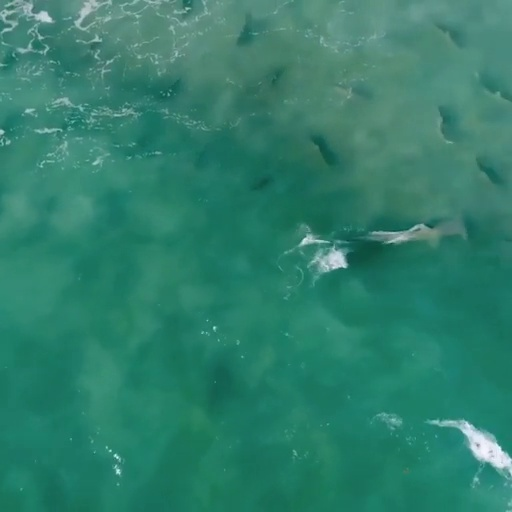shark: (344, 209, 472, 252)
